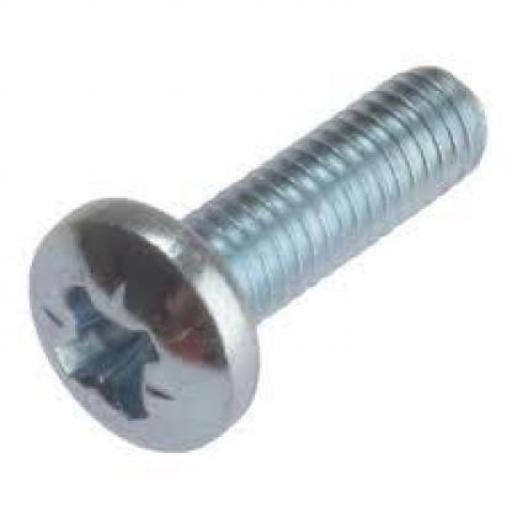Bolt: (28, 64, 489, 454)
